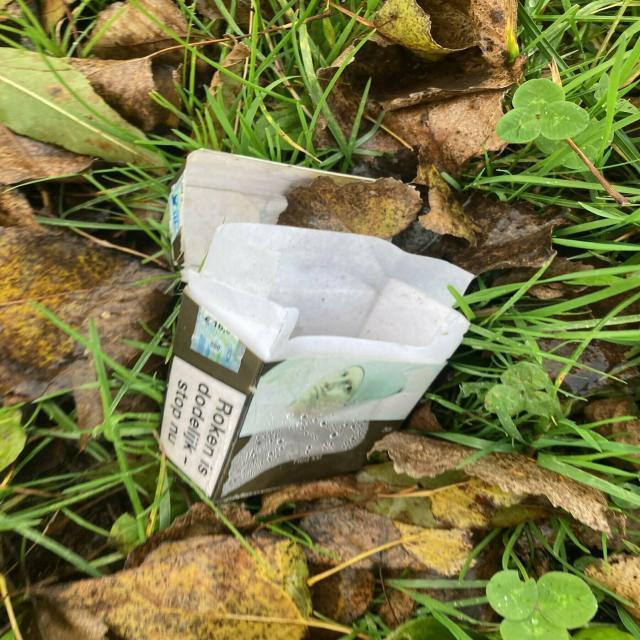Paper: (148, 143, 484, 506)
